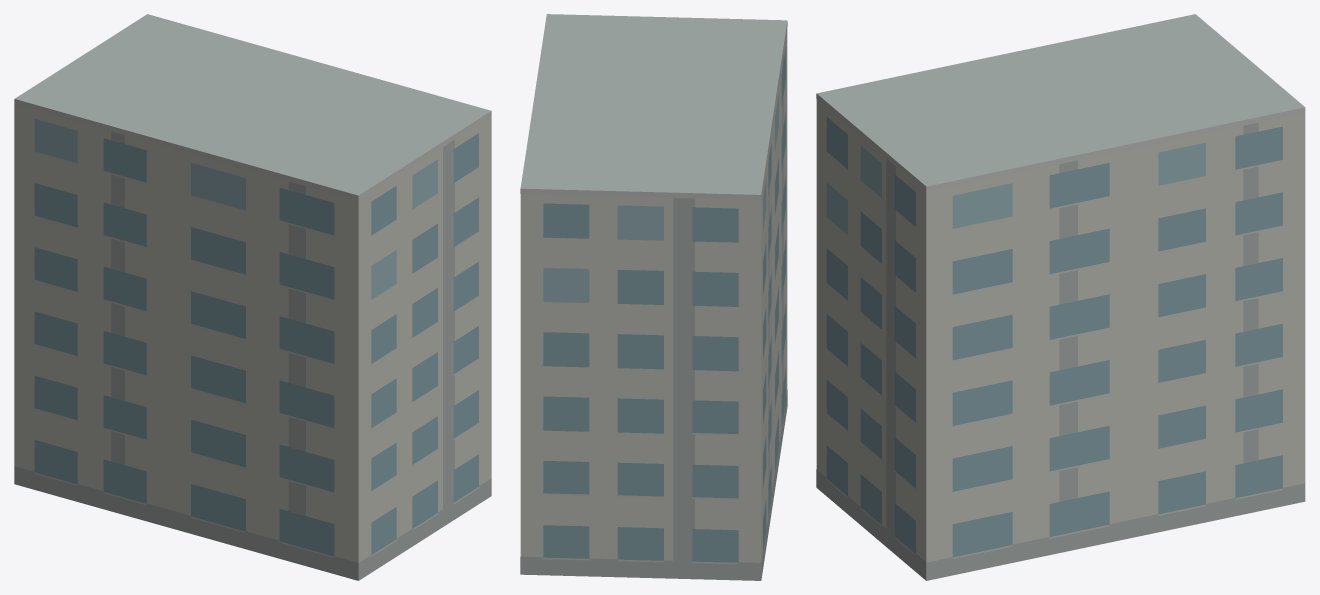
Rendered from survey-upis-32741372.glb.
3 views of the same model, side by side, from view 1: azimuth 30°, elevation 25°; view 2: azimuth 150°, elevation 25°; view 3: azimuth 270°, elevation 25° (orthographic). The views are drawn at different scales.
Parts seen in each view (by area): view 1: survey-upis-32741372.tmp; view 2: survey-upis-32741372.tmp; view 3: survey-upis-32741372.tmp.
Boxes of the visible parts, left/top/right/bottom form: survey-upis-32741372.tmp: left=14, top=14, right=491, bottom=580; survey-upis-32741372.tmp: left=520, top=14, right=787, bottom=580; survey-upis-32741372.tmp: left=816, top=14, right=1305, bottom=580.
Size of the model in its own units: 16.34 by 17.4 by 19.56.
